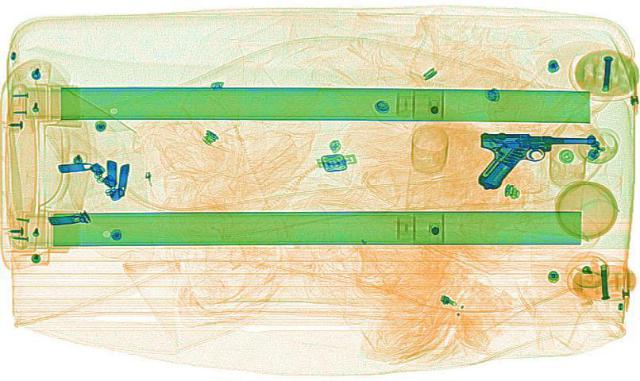Gun: (472, 129, 602, 189)
